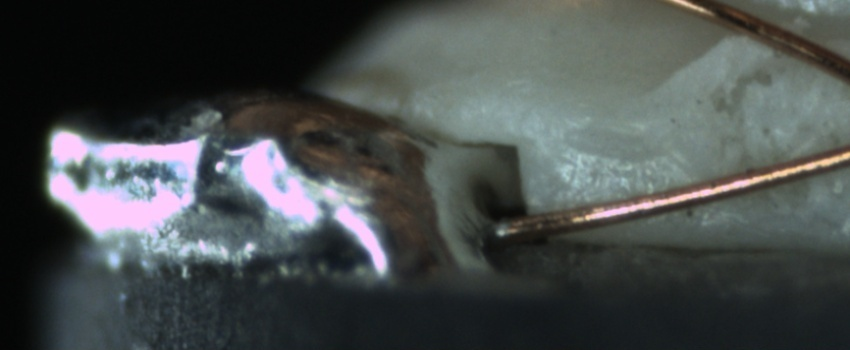DL: (552, 112, 676, 174)
